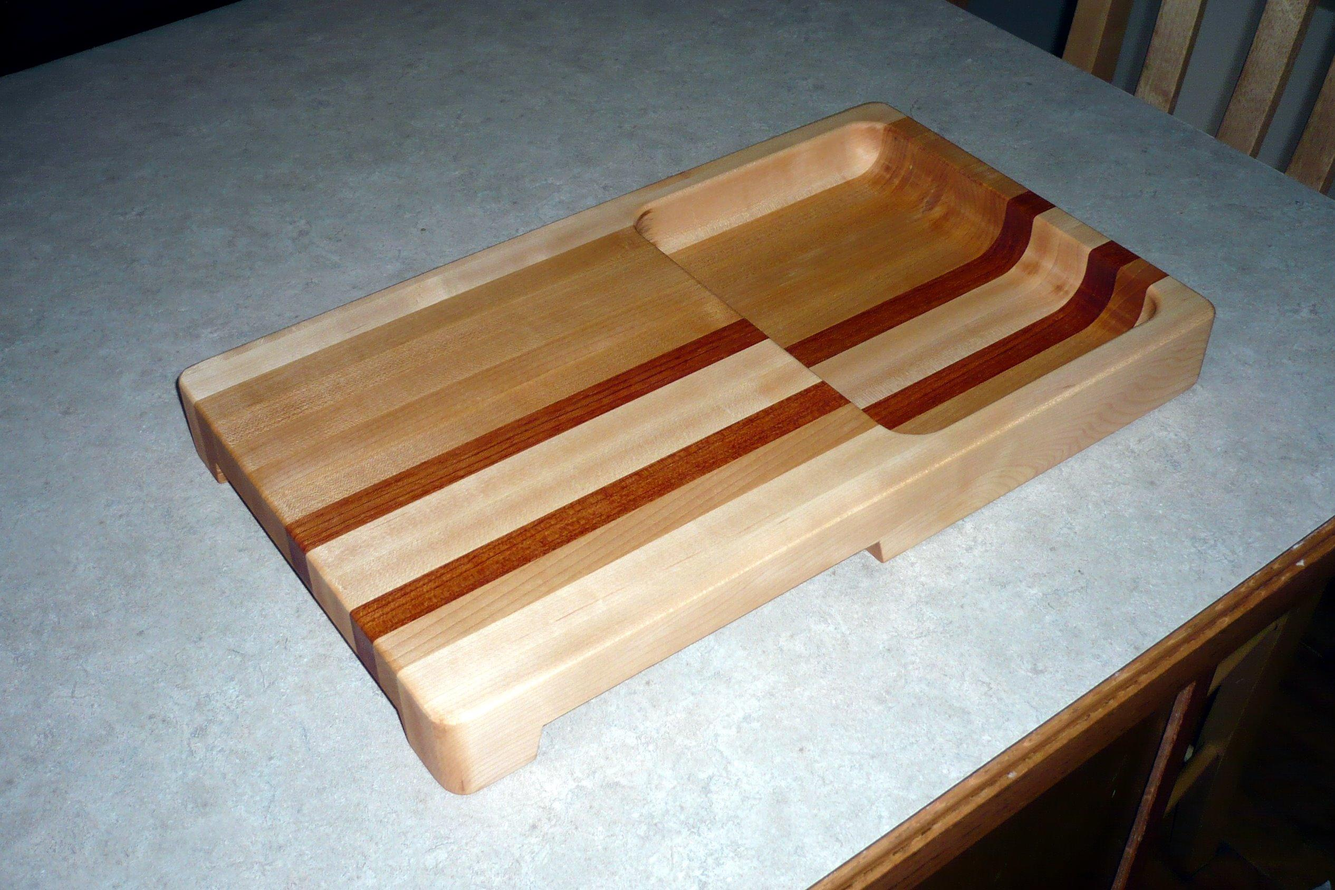gloved_hand: (153, 77, 1223, 801)
